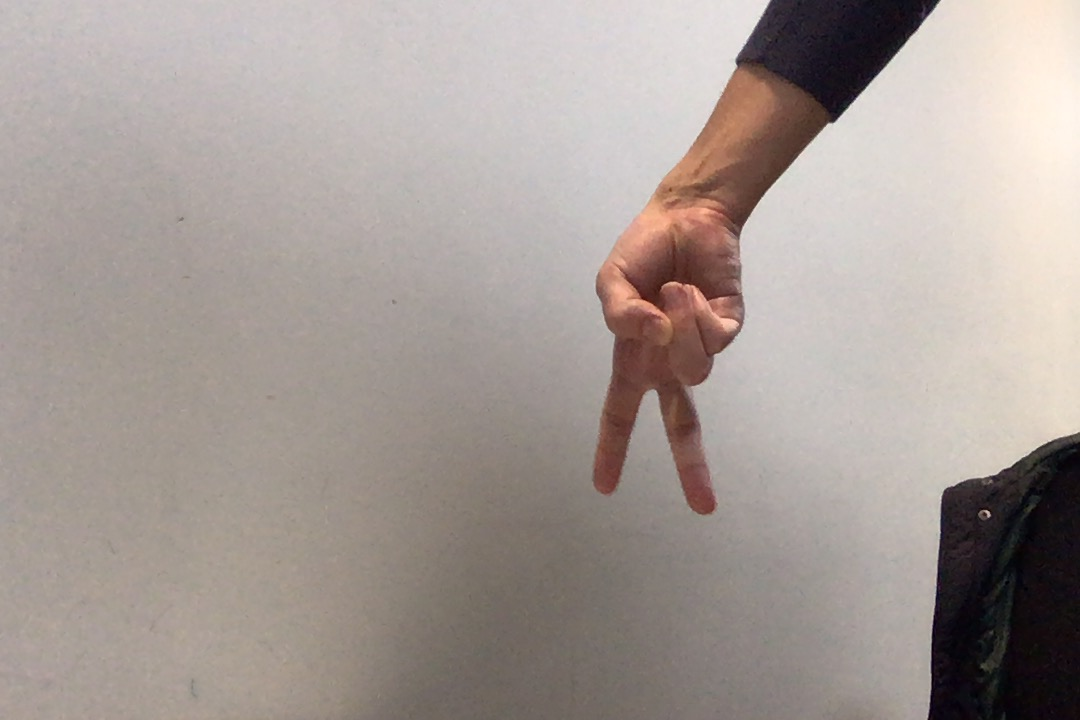peacesign: (582, 195, 751, 522)
